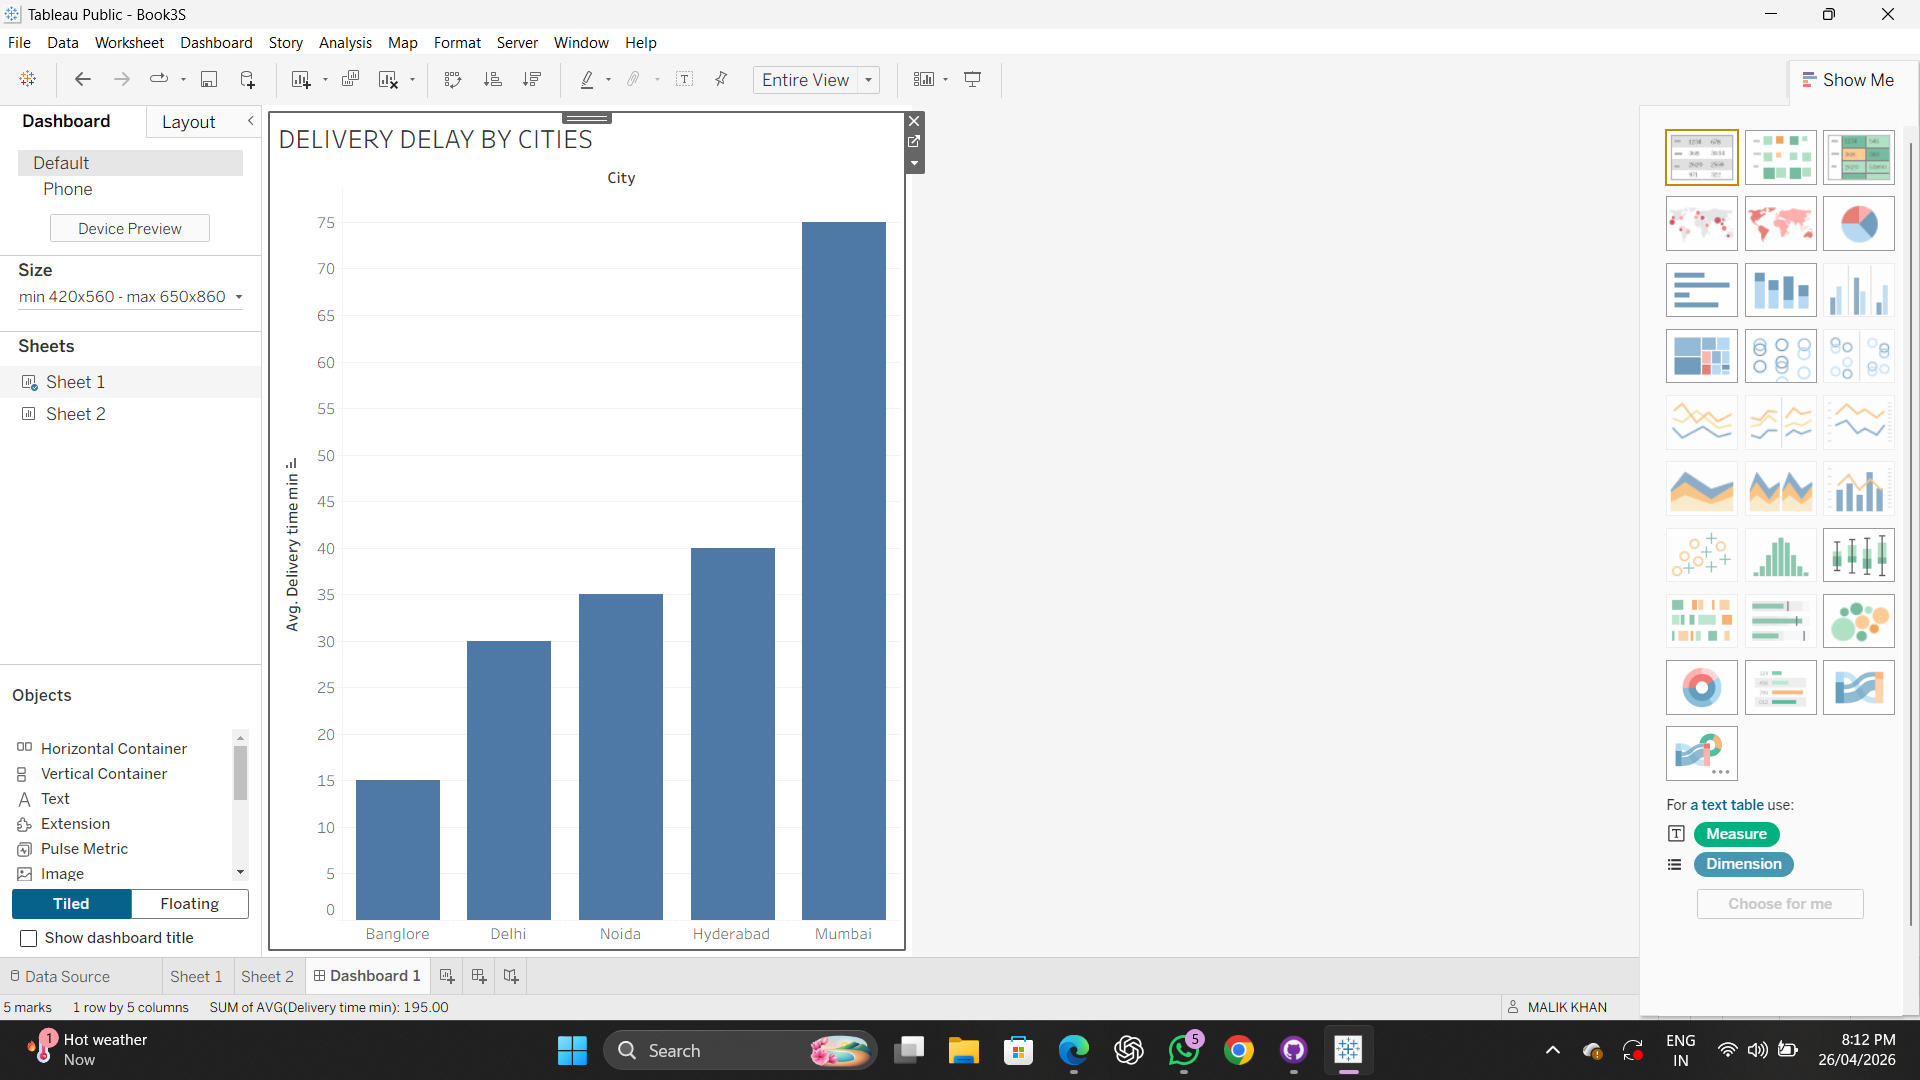

Layout of this report page (visuals, bound fields, positions):
{"tool":"tableau","page":{"name":"Dashboard 1","canvas":[650,860],"ordinal":0},"visuals":[{"type":"title","box":[8,8.1,634,50.5]},{"type":"worksheet","title":"Sheet 1","mark":"Automatic","rows":["Delivery time_min"],"cols":["CITY"],"box":[8,58.5,634,793.4]}]}

Visuals, with their boxes in screenshot pixels (x1, y1, x2, y2):
title: crop(880, 0, 1665, 33)
"Sheet 1" worksheet: crop(880, 32, 1665, 1015)
